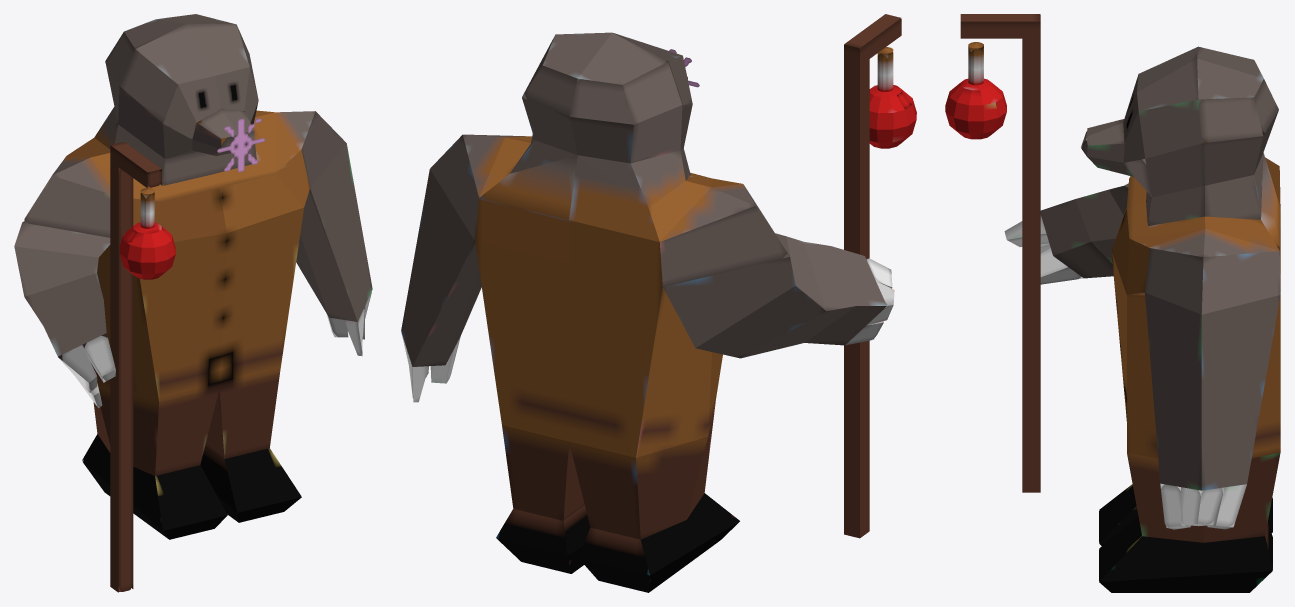
File: condylure.obj
3 views of the same model, side by side, from view 1: azimuth 30°, elevation 25°; view 2: azimuth 150°, elevation 25°; view 3: azimuth 270°, elevation 25° (orthographic). The views are drawn at different scales.
Visible parts, largest first — view 1: cuboid; view 2: cuboid; view 3: cuboid.
Part boxes in pixels (x1,y1,x2,y2): cuboid: [14, 14, 372, 592]; cuboid: [401, 14, 916, 592]; cuboid: [945, 14, 1280, 592].
Bounding box in the file's own units: 0.8734 × 1.05 × 0.6312.
Materials: 1 (1 with a texture image).
